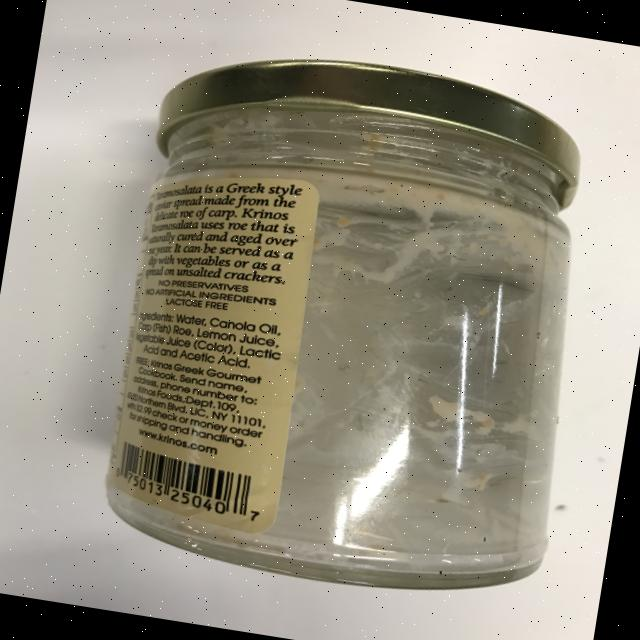glass: (90, 31, 619, 616)
